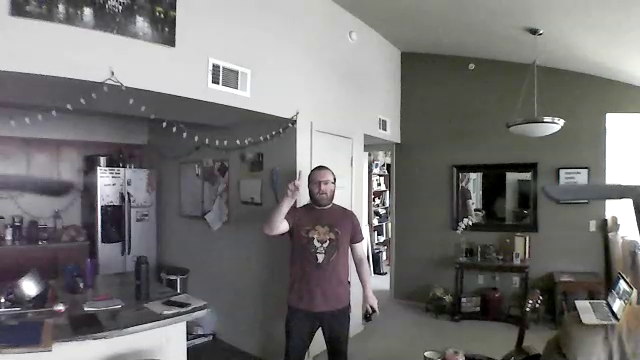up: (282, 166, 305, 207)
